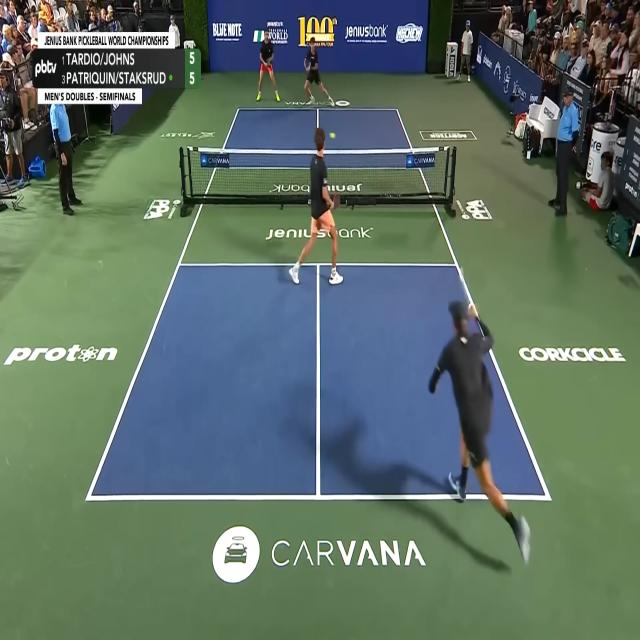ball: (329, 132, 336, 139)
